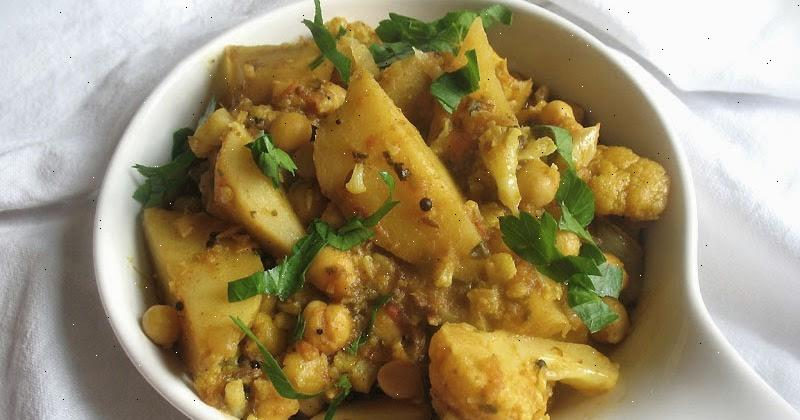aloo gobhi: (165, 24, 645, 392)
